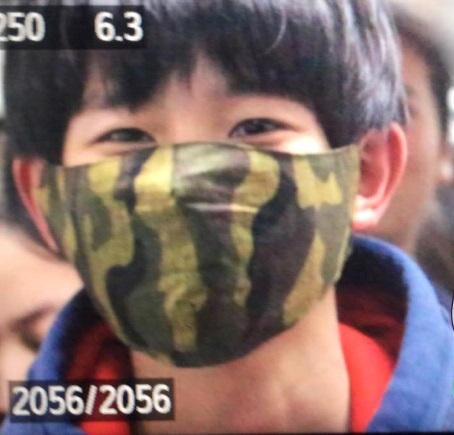face_mask: (60, 31, 335, 325)
